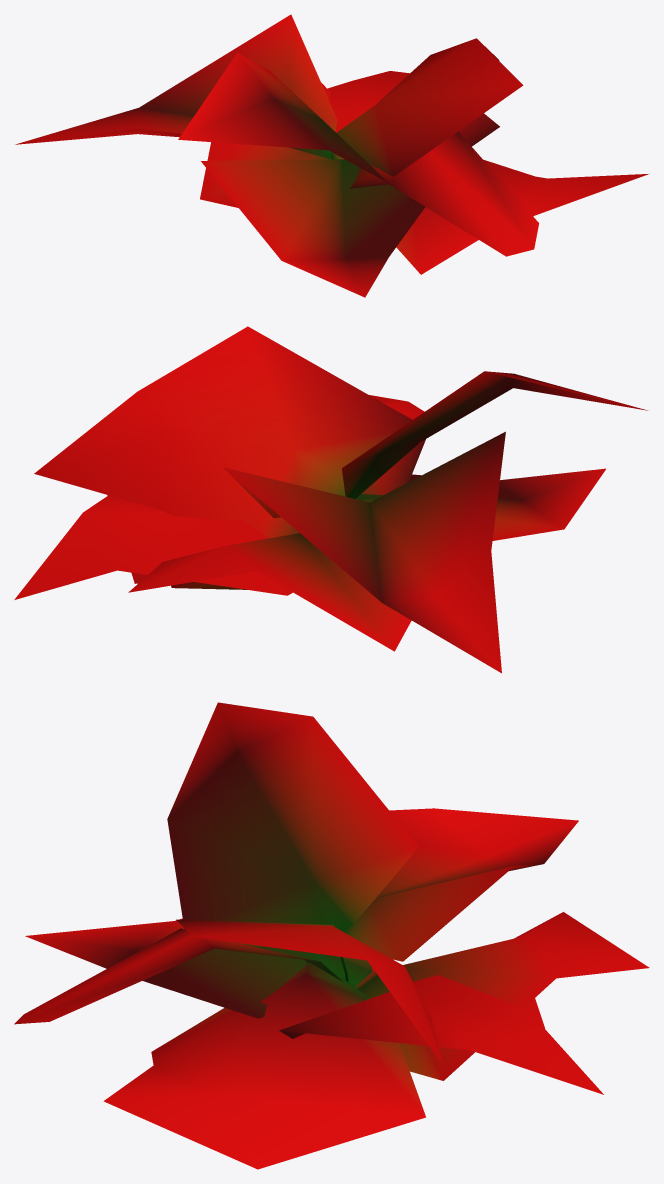
Rendered from Var2_LOD1.fbx.
3 views of the same model, one above another, from view 1: azimuth 30°, elevation 25°; view 2: azimuth 150°, elevation 25°; view 3: azimuth 270°, elevation 25° (orthographic). The views are drawn at different scales.
Parts seen in each view (by area): view 1: Var2_LOD1; view 2: Var2_LOD1; view 3: Var2_LOD1.
Boxes of the visible parts, box(x1,y1,x2,y2) form: Var2_LOD1: box(15, 14, 649, 297); Var2_LOD1: box(14, 326, 647, 673); Var2_LOD1: box(14, 702, 649, 1169).
Bounding box in the file's own units: 140 × 61.15 × 135.
